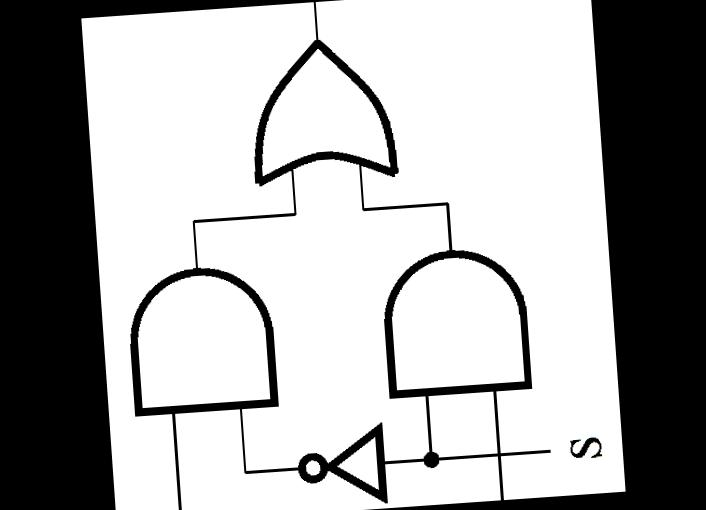and: (371, 235, 540, 404), (118, 254, 288, 422)
not: (290, 414, 394, 510)
or: (236, 24, 406, 196)
